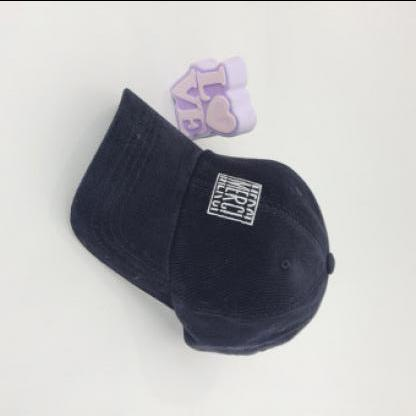cap: (69, 73, 346, 364)
